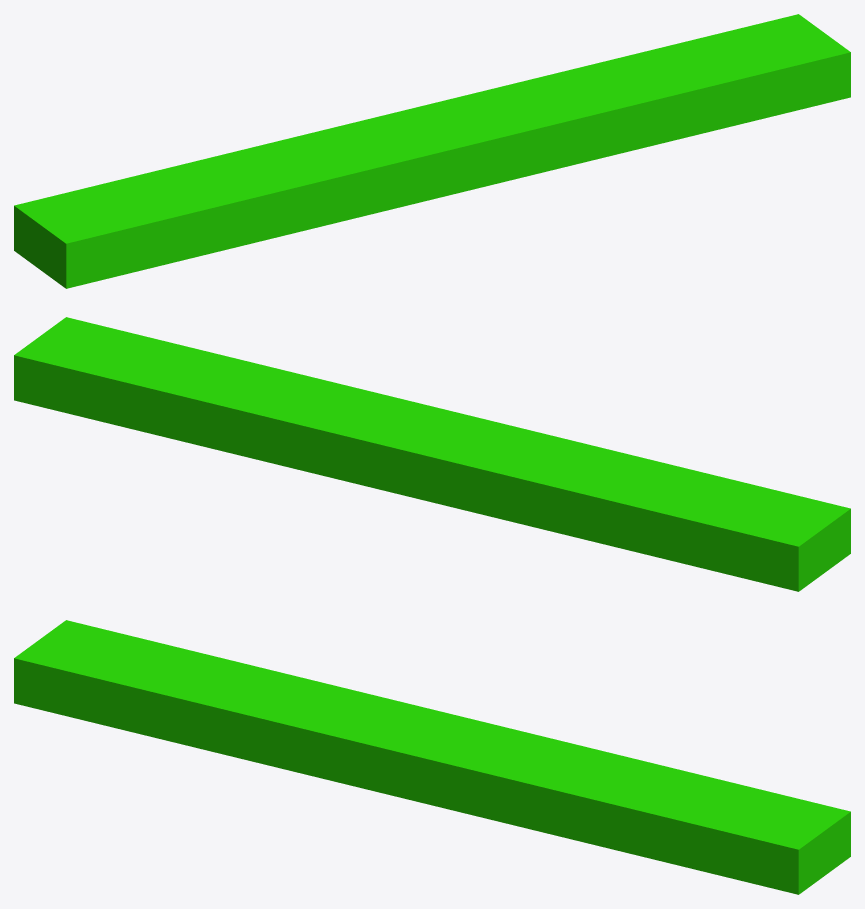
File: Ceiling_Lamp_03.fbx
3 renders of one model, top to bottom at view 1: azimuth 30°, elevation 25°; view 2: azimuth 150°, elevation 25°; view 3: azimuth 330°, elevation 25°, orthographic.
Parts seen in each view (by area): view 1: Ceiling_Lamp_03; view 2: Ceiling_Lamp_03; view 3: Ceiling_Lamp_03.
Boxes of the visible parts, <box> form: Ceiling_Lamp_03: <box>14,14,850,288</box>; Ceiling_Lamp_03: <box>14,317,850,591</box>; Ceiling_Lamp_03: <box>14,620,850,894</box>.
Bounding box in the file's own units: 193 × 10.61 × 22.23.
